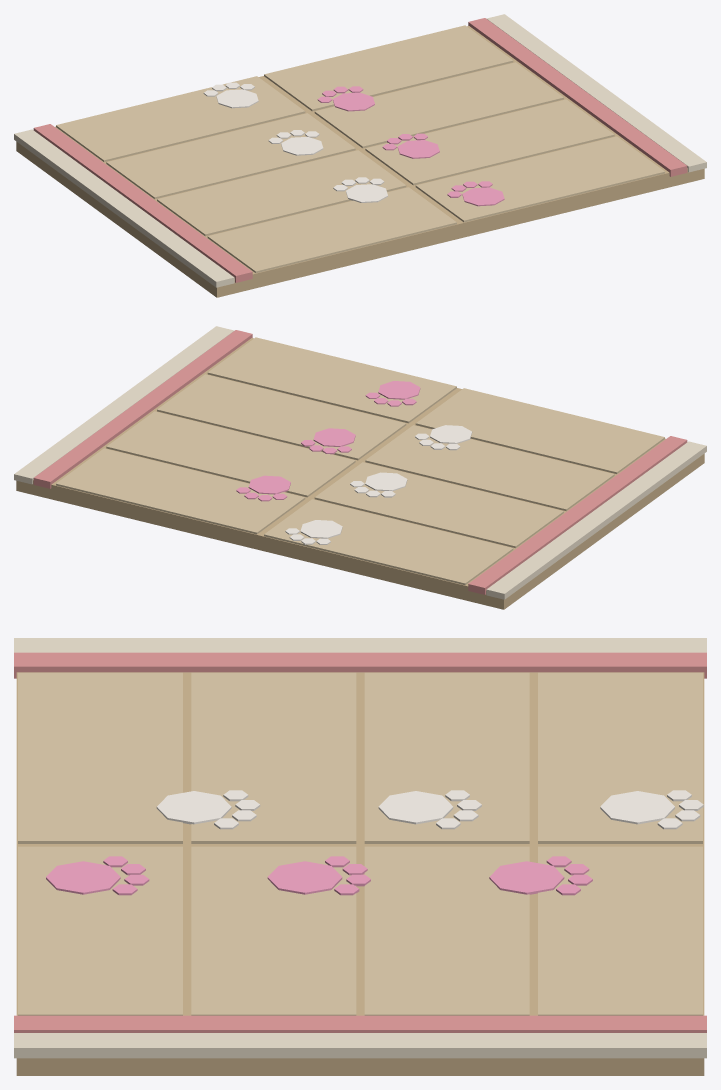
File: CatCafe_Lawn_Path_PawPrintPath.glb
3 views of the same model, one above another, from view 1: azimuth 30°, elevation 25°; view 2: azimuth 150°, elevation 25°; view 3: azimuth 270°, elevation 25° (orthographic). The views are drawn at different scales.
Parts seen in each view (by area): view 1: CatCafe_Lawn_Path_PawPrintPath; view 2: CatCafe_Lawn_Path_PawPrintPath; view 3: CatCafe_Lawn_Path_PawPrintPath.
Boxes of the visible parts, x1,y1,x2,y2 form: CatCafe_Lawn_Path_PawPrintPath: [14, 14, 706, 297]; CatCafe_Lawn_Path_PawPrintPath: [14, 326, 706, 609]; CatCafe_Lawn_Path_PawPrintPath: [14, 638, 706, 1075].
Size of the model in its own units: 7 by 0.245 by 5.
1 material, 1 textured.
